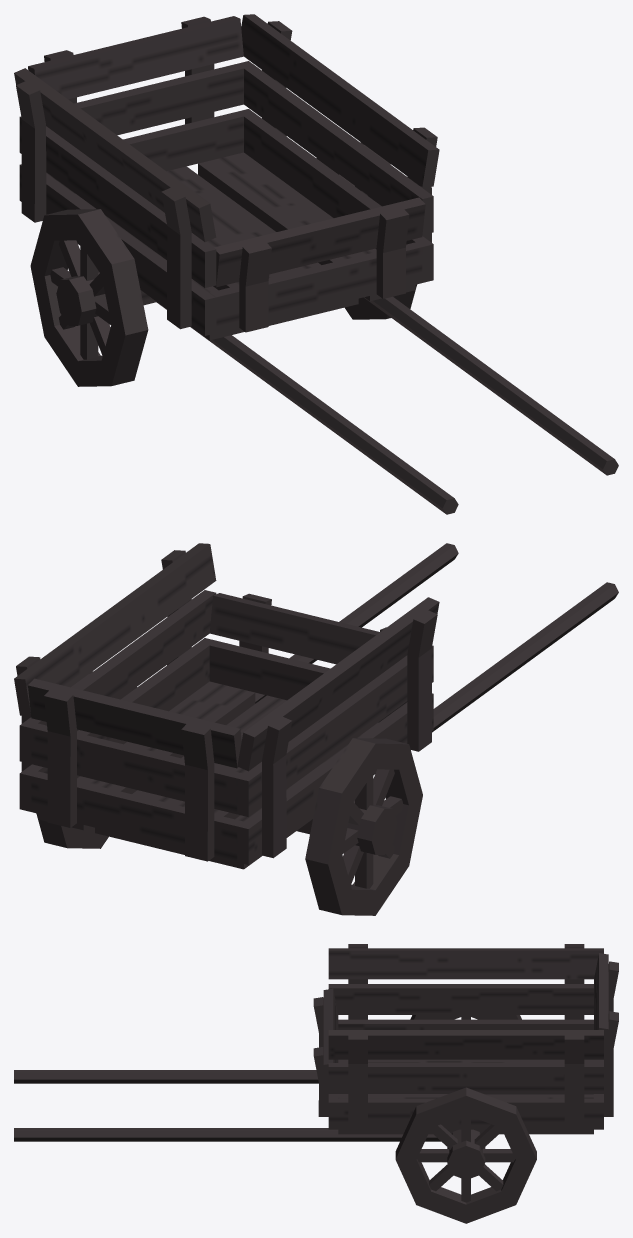
Rendered from CHARETTE.fbx.
3 views of the same model, one above another, from view 1: azimuth 30°, elevation 25°; view 2: azimuth 150°, elevation 25°; view 3: azimuth 270°, elevation 25° (orthographic). The views are drawn at different scales.
Parts seen in each view (by area): view 1: Wheel.001, PlancheLat.001, PlancheBack.001, PlancheLat.002, PlancheLat.004, PlancheLat.005, PoutreLeft.001, PlancheFront.001, PlancheFront.002, PlancheBack.002, PlancheLat.006, Barre.001 (+8 smaller); view 2: Wheel.001, PlancheLat.001, PoutreBack.001, PlancheLat.004, PlancheLat.005, PlancheBack.001, PoutreLeft.001, PlancheFront.001, PlancheBack.003, PlancheBack.002, PlancheLat.002, PlancheFront.002 (+8 smaller); view 3: Wheel.002, PlancheLat.004, PlancheLat.005, PlancheLat.001, PlancheLat.002, Barre.002, PlancheLat.006, Barre.001, PoutreRight.002, PlancheLat.003, PoutreBack.001, PlancheBack.001 (+7 smaller).
Part boxes in pixels (<box>): Wheel.001: <box>30,209,148,386</box>; PlancheLat.001: <box>241,14,439,187</box>; PlancheBack.001: <box>28,16,243,99</box>; PlancheLat.002: <box>237,61,433,234</box>; PlancheLat.004: <box>14,68,216,241</box>; PlancheLat.005: <box>19,116,216,287</box>; PoutreLeft.001: <box>16,80,191,329</box>; PlancheFront.001: <box>214,197,425,287</box>; PlancheFront.002: <box>210,242,422,333</box>; PlancheBack.002: <box>74,64,243,135</box>; PlancheLat.006: <box>238,109,433,282</box>; Barre.001: <box>151,298,458,514</box>; Wheel.001: <box>305,738,422,915</box>; PlancheLat.001: <box>14,543,216,716</box>; PoutreBack.001: <box>44,689,214,861</box>; PlancheLat.004: <box>237,597,439,771</box>; PlancheLat.005: <box>237,645,433,817</box>; PlancheBack.001: <box>28,678,241,768</box>; PoutreLeft.001: <box>262,609,437,858</box>; PlancheFront.001: <box>209,593,379,664</box>; PlancheBack.003: <box>31,771,243,862</box>; PlancheBack.002: <box>31,723,243,814</box>; PlancheLat.002: <box>19,590,216,763</box>; PlancheFront.002: <box>209,640,407,722</box>; Wheel.002: <box>395,1087,536,1223</box>; PlancheLat.004: <box>328,948,603,979</box>; PlancheLat.005: <box>328,984,593,1014</box>; PlancheLat.001: <box>328,1030,603,1059</box>; PlancheLat.002: <box>328,1063,603,1093</box>; Barre.002: <box>14,1128,440,1141</box>; PlancheLat.006: <box>328,1098,603,1129</box>; Barre.001: <box>14,1070,318,1083</box>; PoutreRight.002: <box>348,1034,584,1133</box>; PlancheLat.003: <box>338,1019,593,1029</box>; PoutreBack.001: <box>604,961,618,1116</box>; PlancheBack.001: <box>594,953,608,1052</box>.
Bounding box in the file's own units: 276 × 201 × 615.
